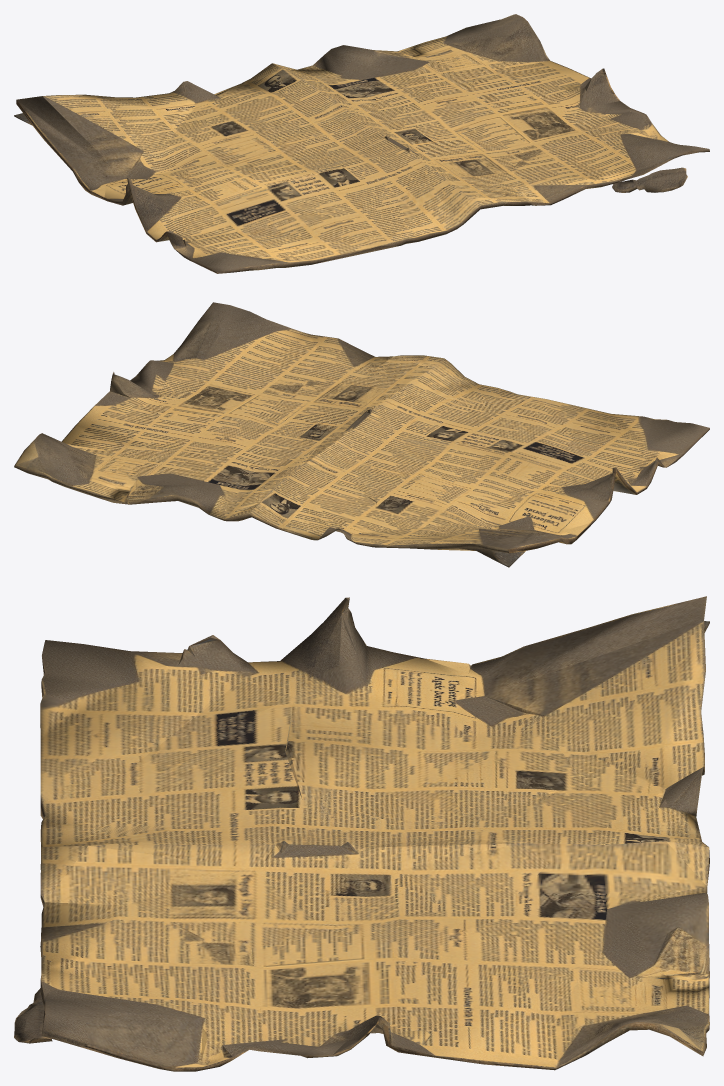
File: Journal.fbx
3 views of the same model, one above another, from view 1: azimuth 30°, elevation 25°; view 2: azimuth 150°, elevation 25°; view 3: azimuth 270°, elevation 25° (orthographic). The views are drawn at different scales.
Parts seen in each view (by area): view 1: Mesh_0; view 2: Mesh_0; view 3: Mesh_0.
Boxes of the visible parts, x1=… form: Mesh_0: x1=14, y1=14, x2=709, y2=273; Mesh_0: x1=14, y1=302, x2=709, y2=567; Mesh_0: x1=14, y1=596, x2=709, y2=1071.
Size of the model in its own units: 190 by 18.18 by 140.
1 material, 1 textured.
